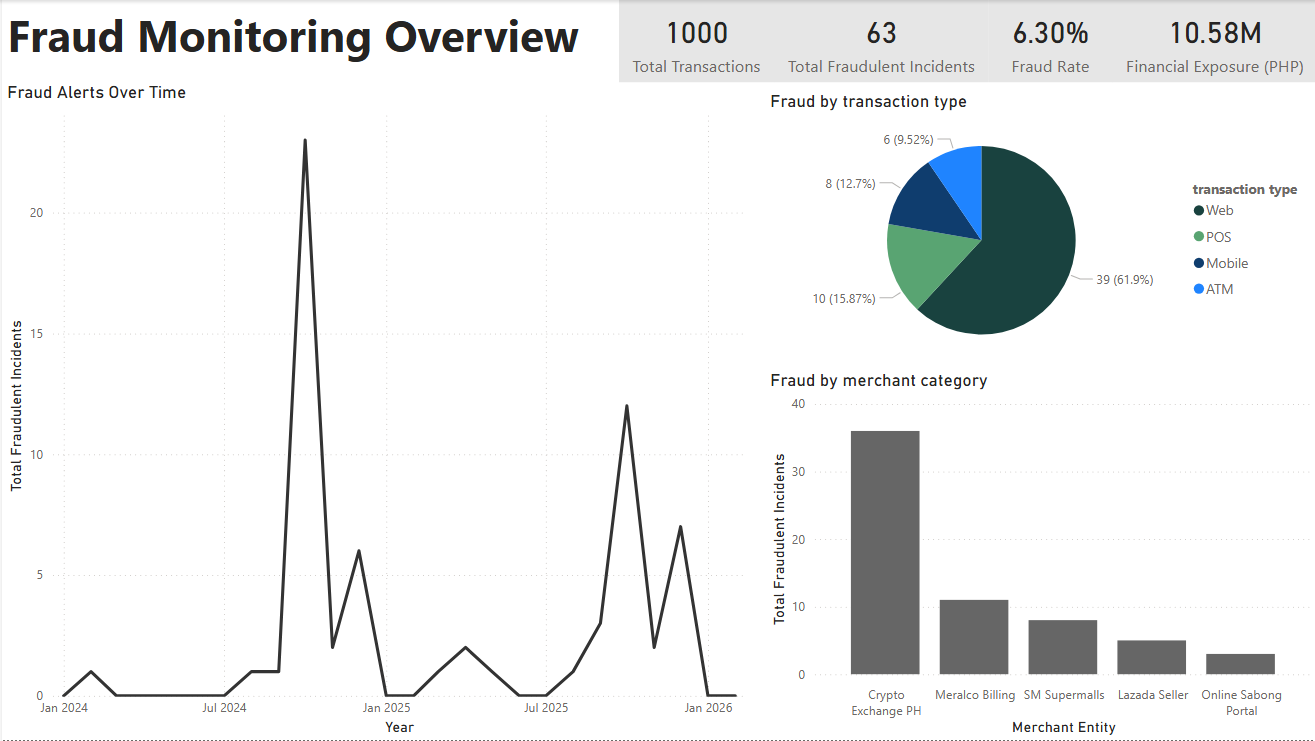

What the dashboard file says about the page in this screenshot:
{"tool":"powerbi","page":{"name":"Fraud Monitoring Overview","canvas":[1280,720],"ordinal":0},"visuals":[{"type":"lineChart","title":"Fraud Alerts Over Time","fields":{"Y":["Sum(fact_transactions.fraud_flag)"],"Category":["fact_transactions.timestamp.Variation.Date Hierarchy.Year","fact_transactions.timestamp.Variation.Date Hierarchy.Quarter","fact_transactions.timestamp.Variation.Date Hierarchy.Month"]},"box":[0,80,742.2,640],"z":0},{"type":"pieChart","title":"Fraud by transaction type","fields":{"Category":["dim_transaction_types.type_name"],"Y":["Sum(fact_transactions.fraud_flag)"]},"box":[742.1,88.5,537.9,271.4],"z":1000},{"type":"card","fields":{"Values":["Sum(fact_transactions.fraud_flag)"]},"box":[750.9,0,209.1,79.8],"z":2000},{"type":"card","fields":{"Values":["Sum(fact_transactions.amount)"]},"box":[1079.6,0,200.4,79.8],"z":3000},{"type":"card","fields":{"Values":["CountNonNull(fact_transactions.transaction_id)"]},"box":[600.1,0,150.8,79.8],"z":4000},{"type":"card","fields":{"Values":["fact_transactions.Fraud Rate %"]},"box":[960,0,119.6,79.8],"z":5000},{"type":"columnChart","title":"Fraud by merchant category","fields":{"Y":["Sum(fact_transactions.fraud_flag)"],"Category":["dim_merchant.merchant_name"]},"box":[742.1,359.9,537.9,359.9],"z":6000},{"type":"textbox","box":[0,0,568.9,80],"z":7000}]}

Visuals, with their boxes in screenshot pixels (x1, y1, x2, y2), scaled from the page's 1280x720 canvas onto the 1315x741 screenshot:
"Fraud Alerts Over Time" lineChart: bbox(0, 82, 762, 740)
"Fraud by transaction type" pieChart: bbox(762, 91, 1314, 370)
card - Sum(fact_transactions.fraud_flag): bbox(771, 0, 986, 82)
card - Sum(fact_transactions.amount): bbox(1109, 0, 1314, 82)
card - CountNonNull(fact_transactions.transaction_id): bbox(617, 0, 771, 82)
card - fact_transactions.Fraud Rate %: bbox(986, 0, 1109, 82)
"Fraud by merchant category" columnChart: bbox(762, 370, 1314, 740)
textbox: bbox(0, 0, 584, 82)
